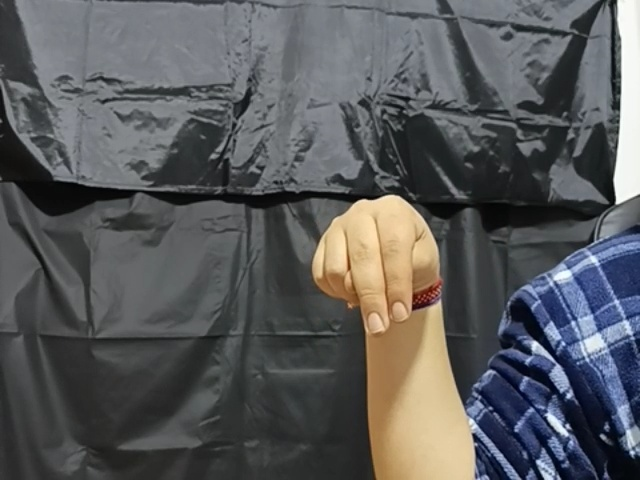N: (304, 186, 444, 332)
